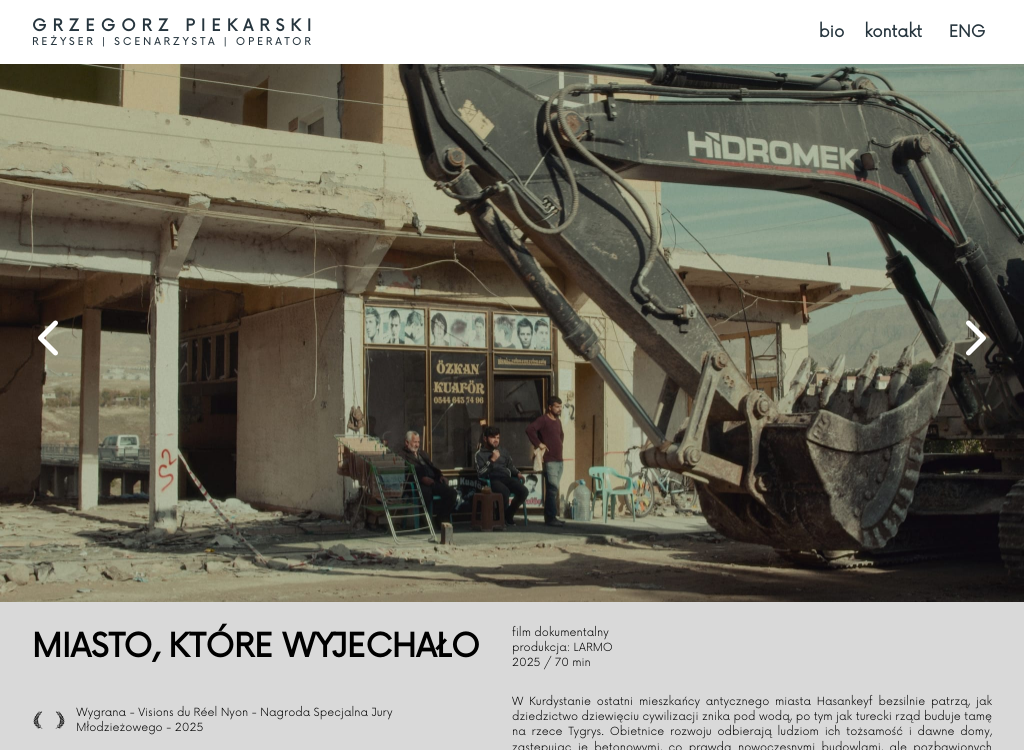
Test: language toggle switches to English
Click the button "ENG" at (967, 32), box x1=942 y1=21 x2=992 y2=43
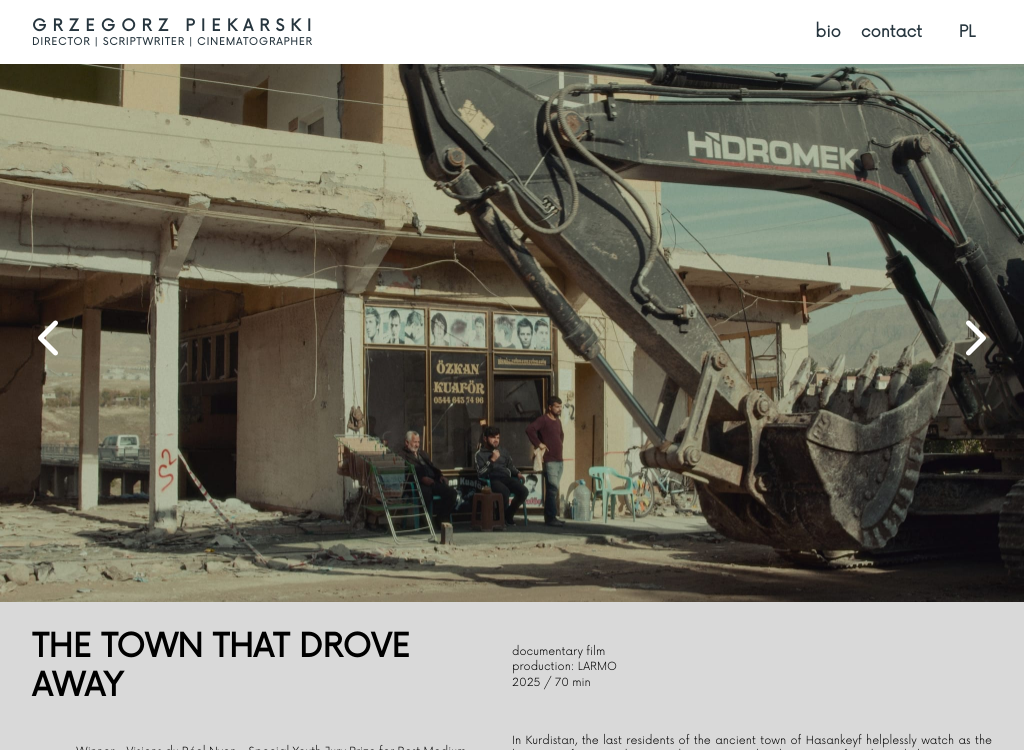
Now the heading "THE TOWN THAT DROVE AWAY" is shown, box x1=32 y1=628 x2=410 y2=706
Now the button "PL" is shown, box x1=942 y1=21 x2=992 y2=43
